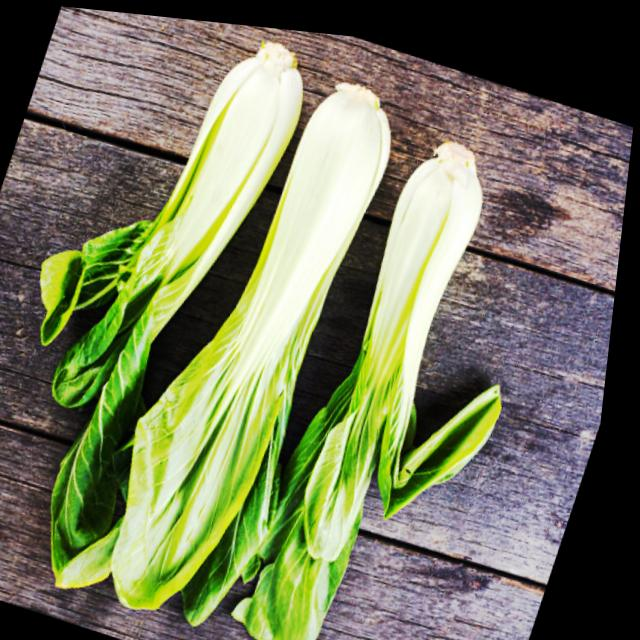chinese_cabbage: (0, 32, 570, 640)
